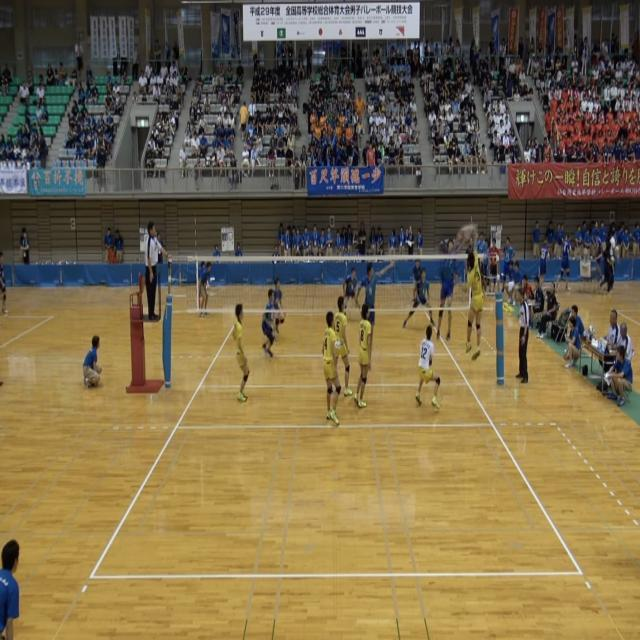spike: (452, 219, 485, 367)
